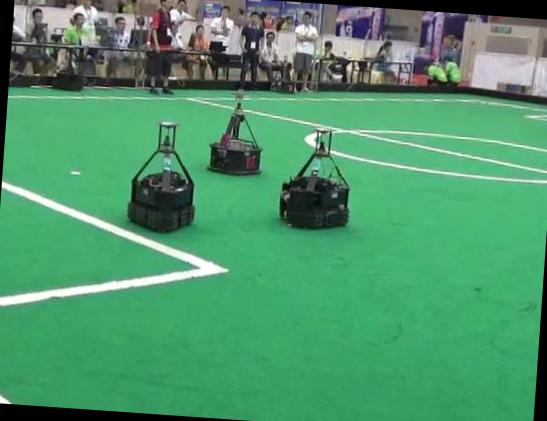person: (146, 0, 173, 93), (238, 11, 264, 89), (292, 10, 317, 90)
robot: (127, 120, 193, 230), (279, 128, 348, 226), (208, 101, 260, 173), (52, 47, 83, 89)
